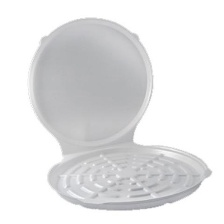foam_box: (21, 11, 216, 215)
